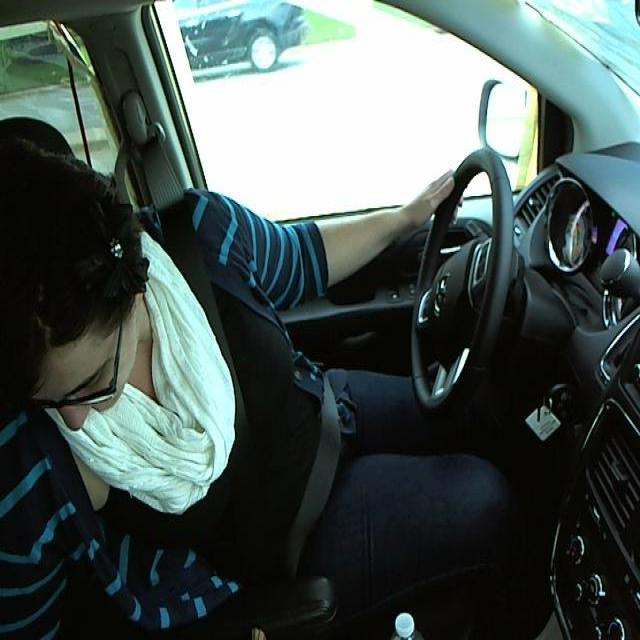seatbelt: (166, 223, 355, 546)
